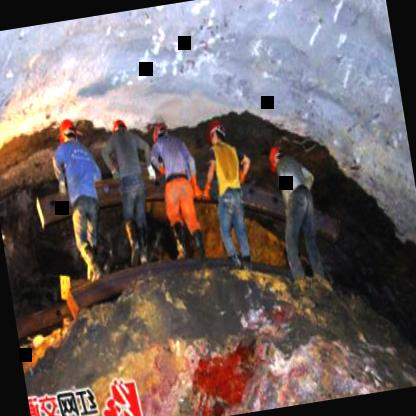helmet: (51, 114, 81, 152), (146, 118, 174, 150), (204, 116, 230, 150), (264, 143, 286, 175), (108, 112, 130, 138)
